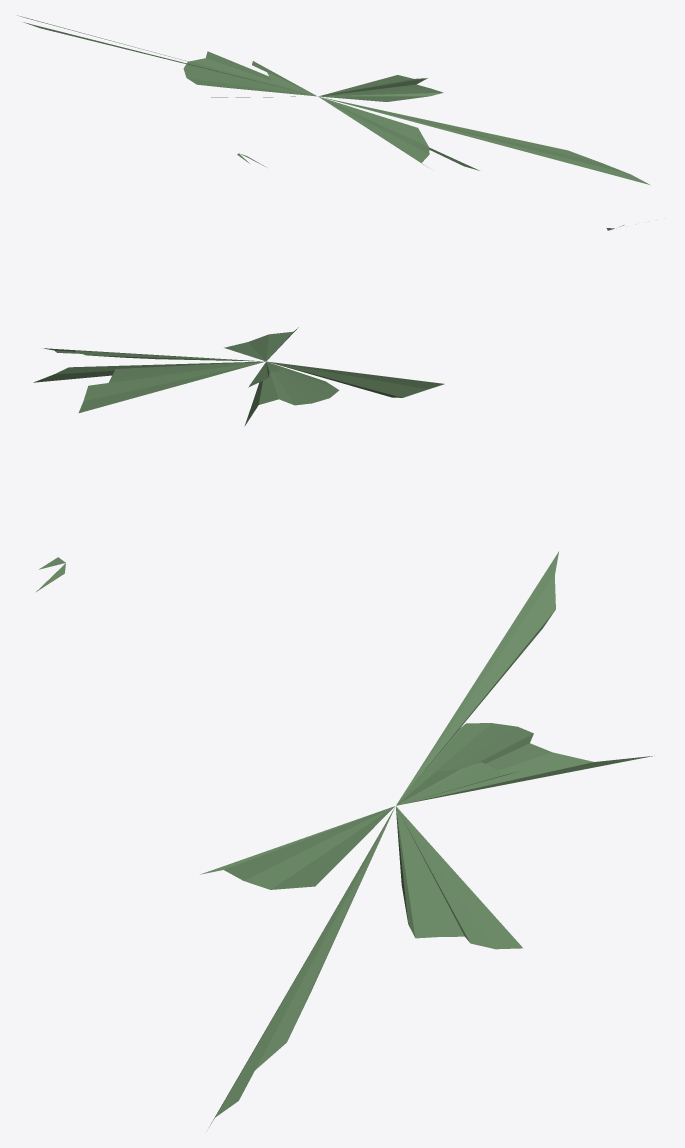
Rendered from c_1668_17820_forest.glb.
3 views of the same model, one above another, from view 1: azimuth 30°, elevation 25°; view 2: azimuth 150°, elevation 25°; view 3: azimuth 270°, elevation 25° (orthographic). The views are drawn at different scales.
Visible parts, largest first — view 1: geometry_0; view 2: geometry_0; view 3: geometry_0.
Part boxes in pixels (left/top/right/bottom): geometry_0: left=17, top=15, right=650, bottom=185; geometry_0: left=33, top=225, right=623, bottom=426; geometry_0: left=35, top=551, right=654, bottom=1126.
Bounding box in the file's own units: 481 × 187 × 377.
